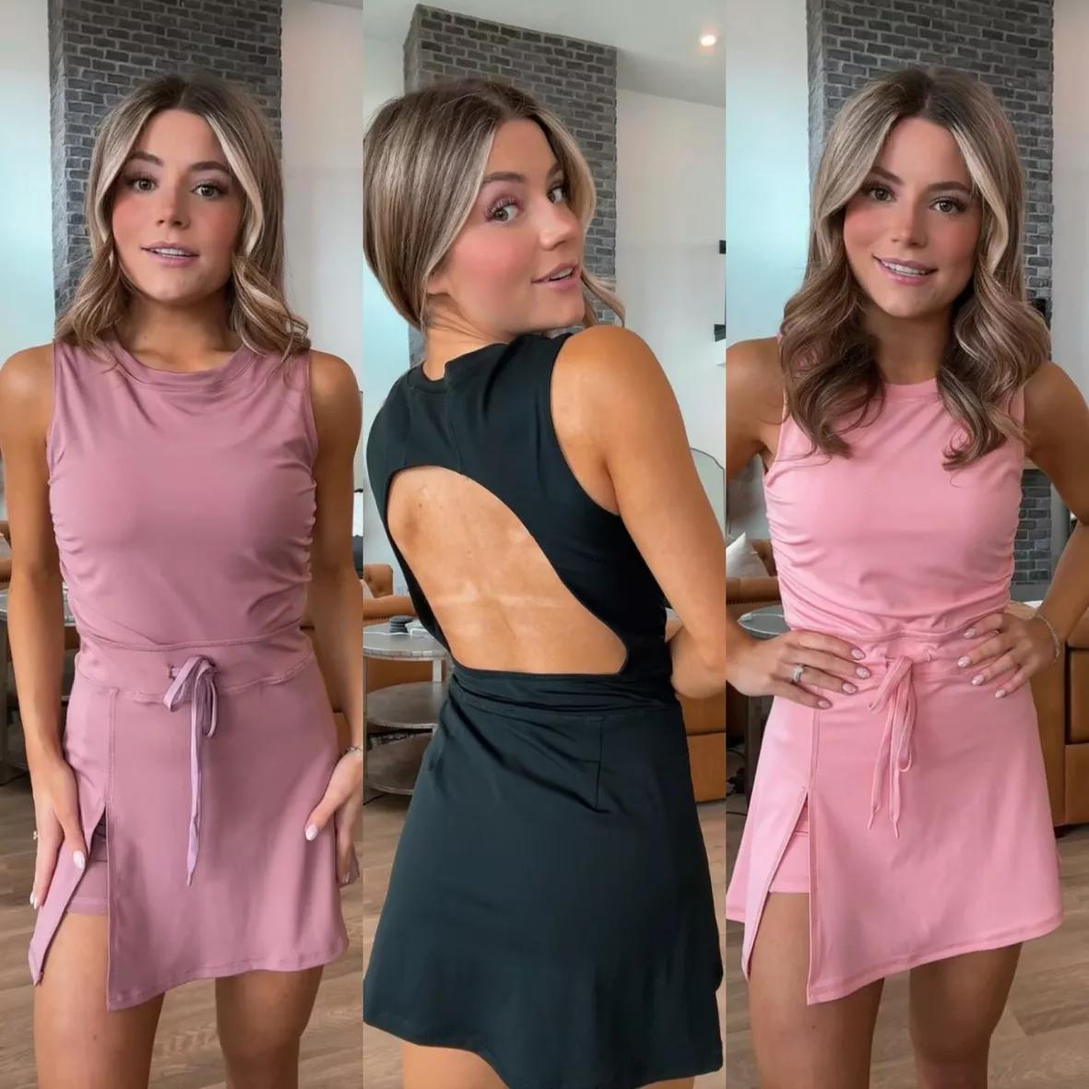dress: (365, 328, 725, 1089), (725, 325, 1070, 1007), (27, 328, 352, 1015)
